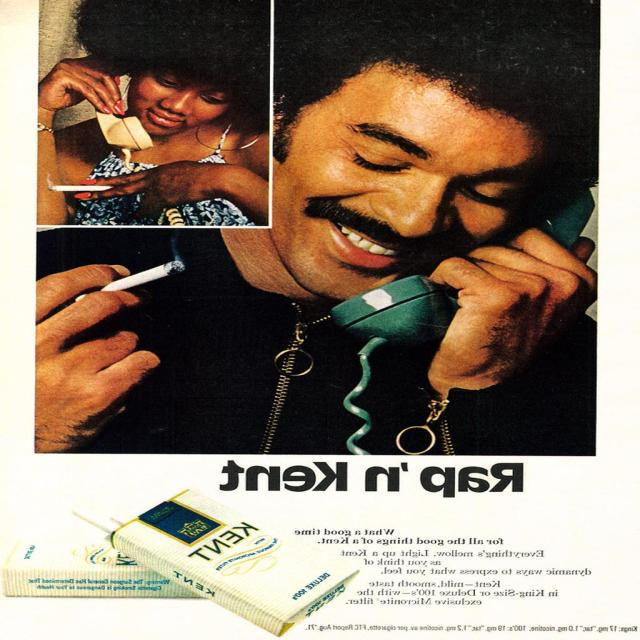smoking: (36, 63, 239, 202), (40, 251, 261, 311)
